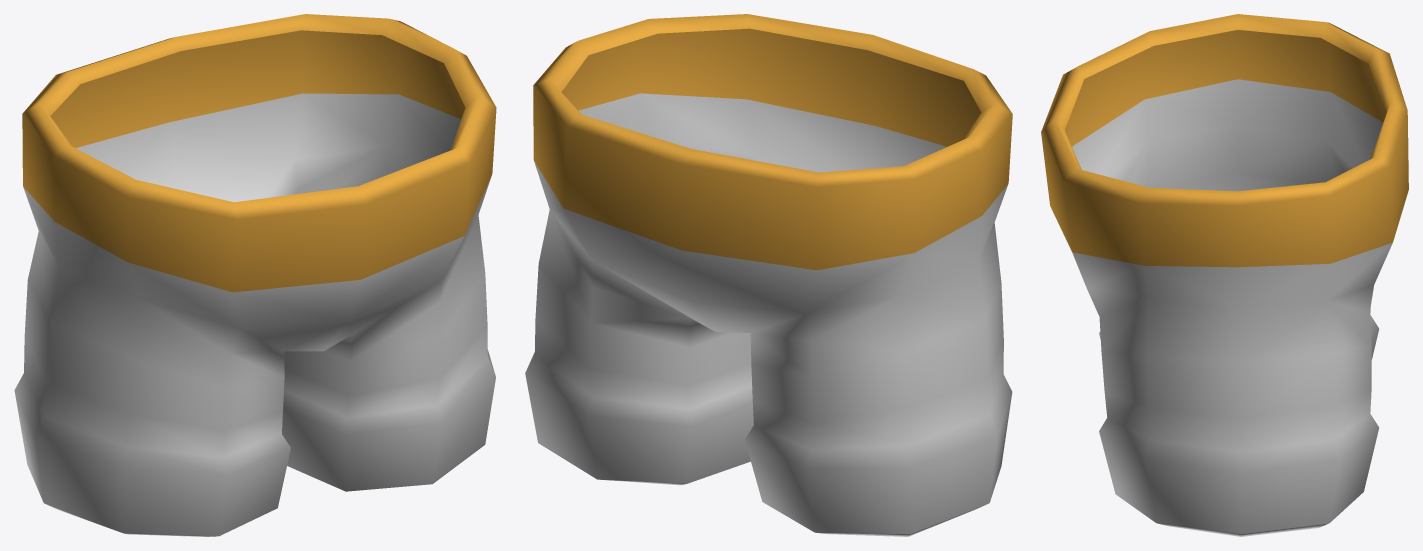
The model's file is bottom60.fbx.
3 renders of one model, left to right at view 1: azimuth 30°, elevation 25°; view 2: azimuth 150°, elevation 25°; view 3: azimuth 270°, elevation 25°, orthographic. The views are drawn at different scales.
Parts seen in each view (by area): view 1: Bottom_60; view 2: Bottom_60; view 3: Bottom_60.
Boxes of the visible parts, x1=… form: Bottom_60: x1=14, y1=14, x2=496, y2=536; Bottom_60: x1=525, y1=14, x2=1012, y2=536; Bottom_60: x1=1041, y1=14, x2=1408, y2=536.
Bounding box in the file's own units: 41.1 × 33.01 × 31.34.
